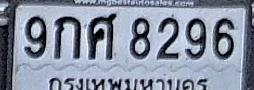2: (157, 16, 179, 58)
6: (213, 16, 234, 58)
8: (130, 16, 150, 58)
9: (24, 15, 46, 57), (185, 16, 206, 58)
A01: (54, 15, 81, 58)
A38: (88, 12, 116, 59)
